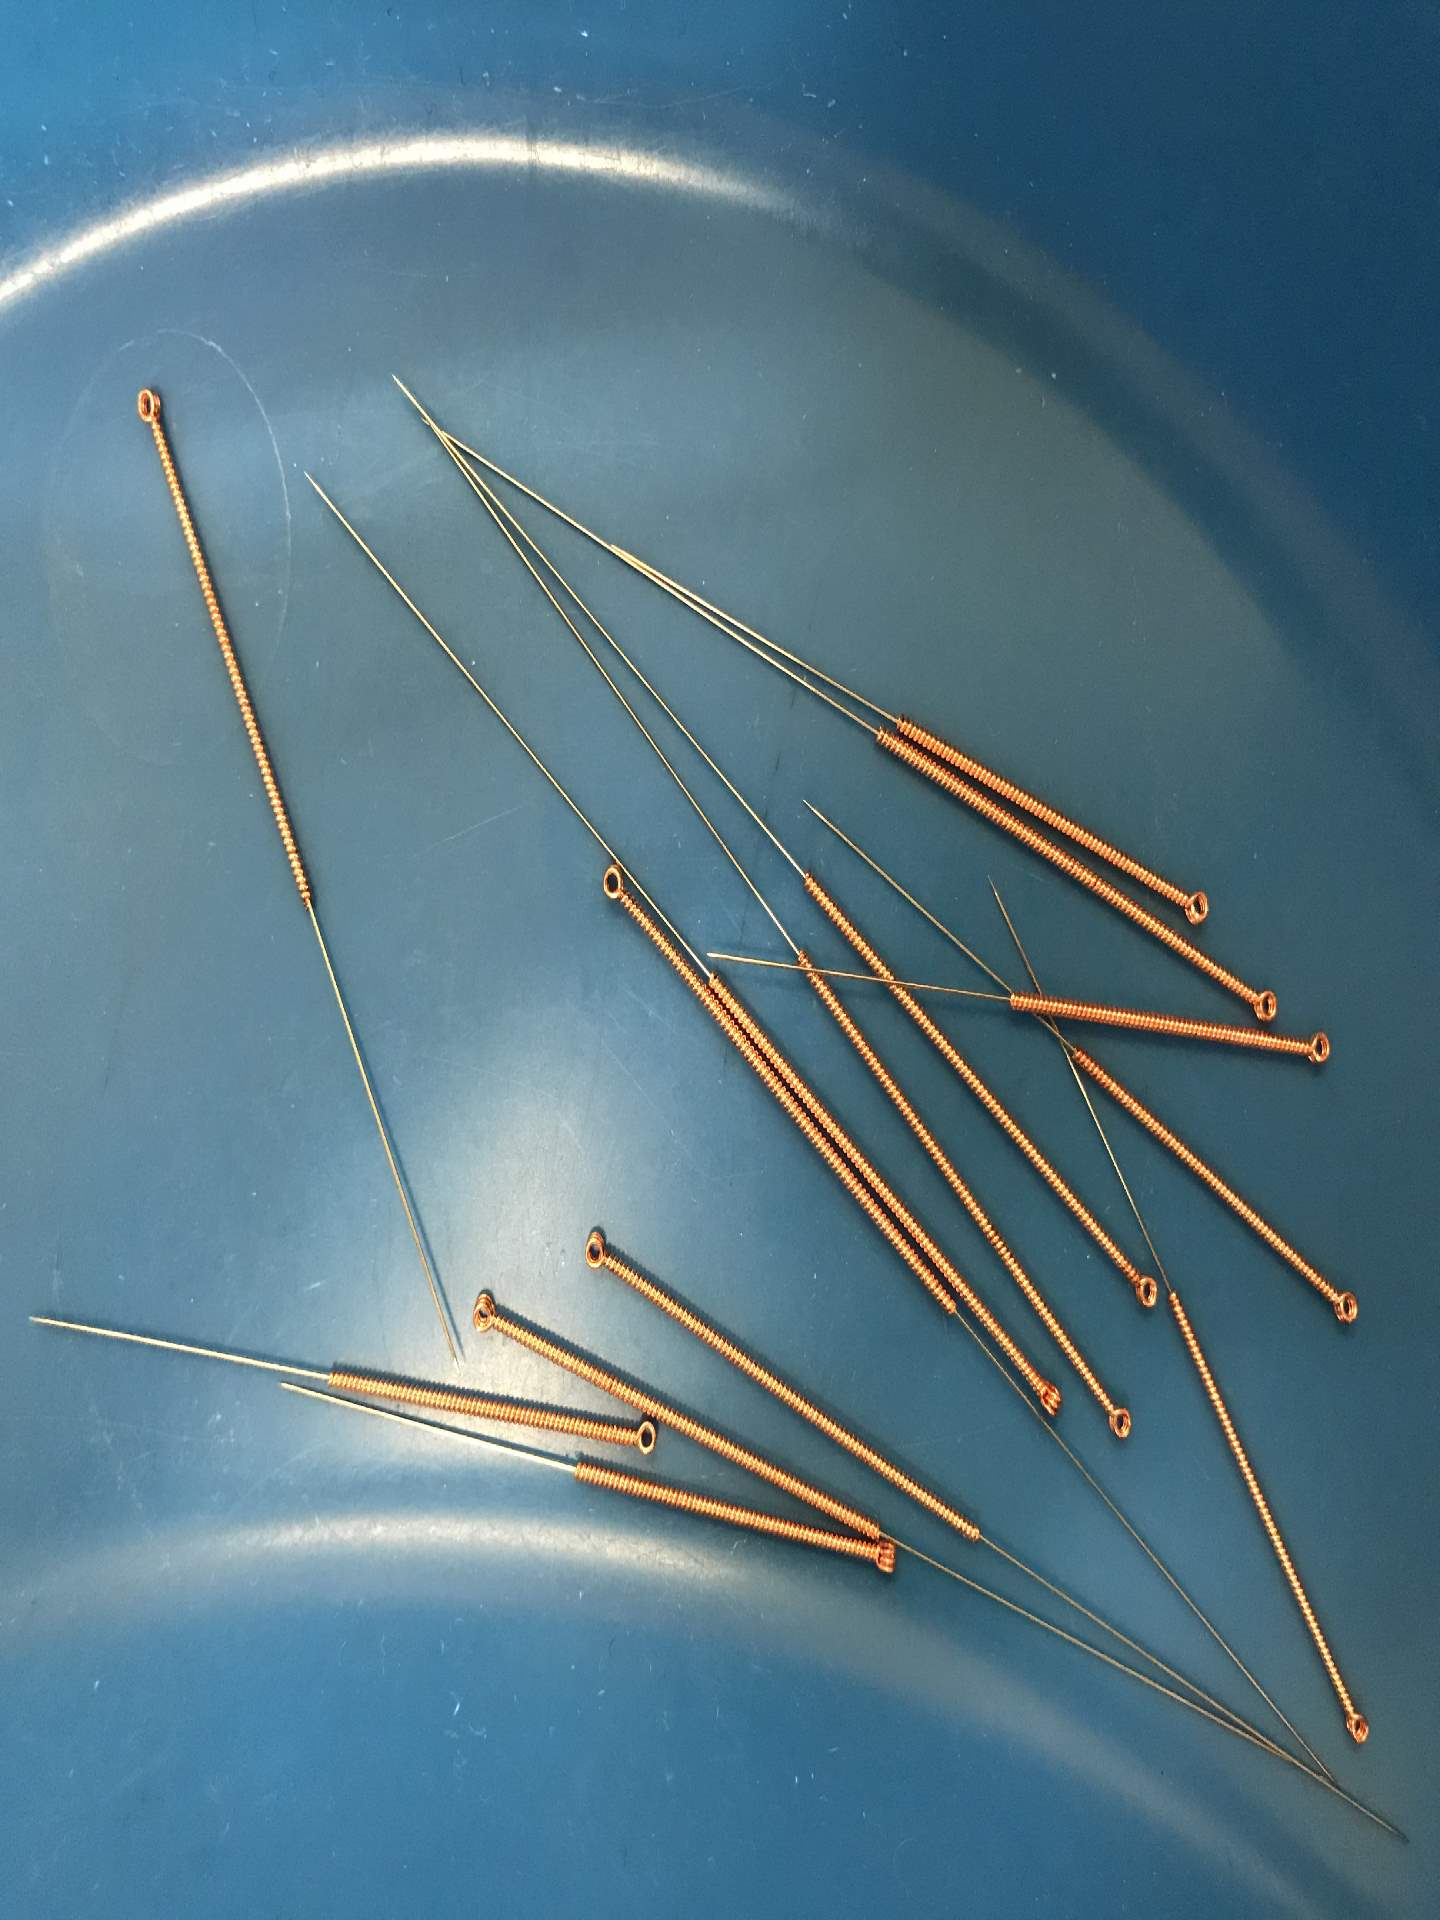needle: (119, 372, 178, 441), (1091, 1379, 1144, 1451), (569, 1219, 628, 1284), (1314, 1270, 1367, 1339), (1227, 971, 1290, 1027), (587, 853, 638, 919), (458, 1282, 511, 1346), (1287, 1022, 1343, 1081), (1023, 1365, 1072, 1429), (1121, 1253, 1166, 1320), (1171, 874, 1218, 937), (1334, 1695, 1379, 1760), (622, 1411, 667, 1466), (864, 1538, 905, 1583)
